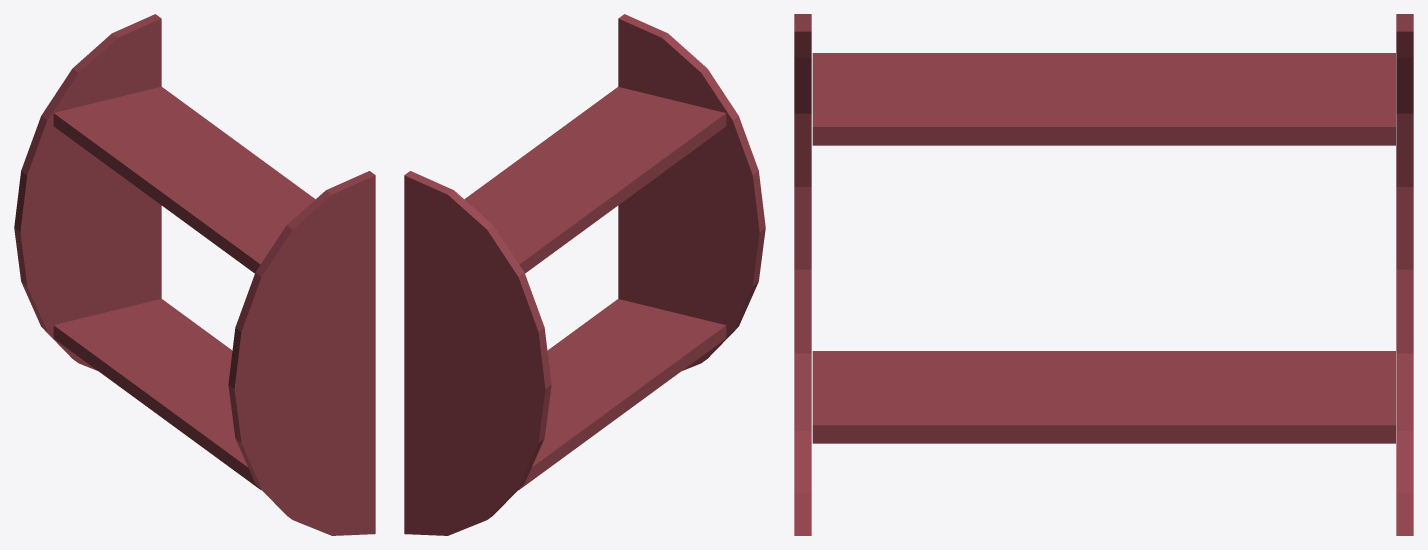
The model's file is estante.obj.
The picture shows the model from 3 angles, left to right: view 1: azimuth 30°, elevation 25°; view 2: azimuth 150°, elevation 25°; view 3: azimuth 270°, elevation 25°; orthographic projection. The views are drawn at different scales.
Visible parts, largest first — view 1: estante:pCylinder3; view 2: estante:pCylinder3; view 3: estante:pCylinder3.
Part boxes in pixels (x1=…): estante:pCylinder3: x1=14, y1=14, x2=375, y2=535; estante:pCylinder3: x1=404, y1=14, x2=765, y2=535; estante:pCylinder3: x1=794, y1=14, x2=1413, y2=535.
Size of the model in its own units: 0.6674 by 1.62 by 1.8.
1 material, 1 textured.
